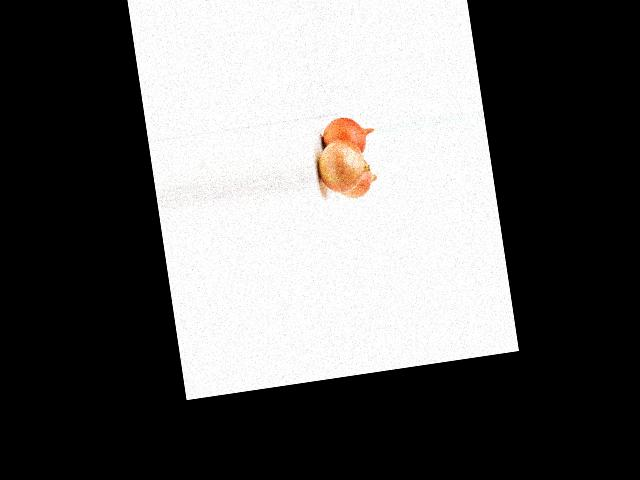onion: (316, 113, 373, 160)
